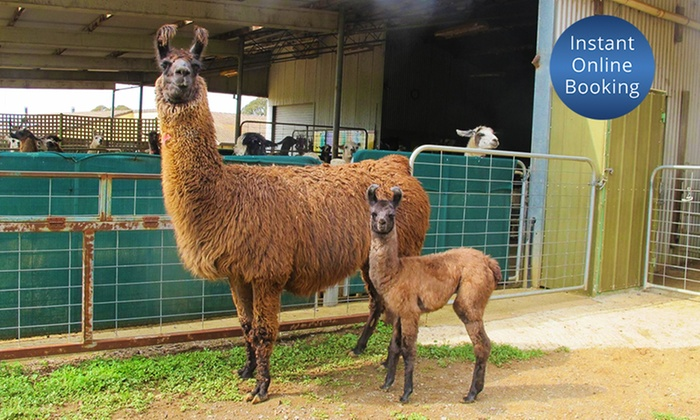alpaca: (152, 23, 431, 404), (365, 182, 506, 406)
